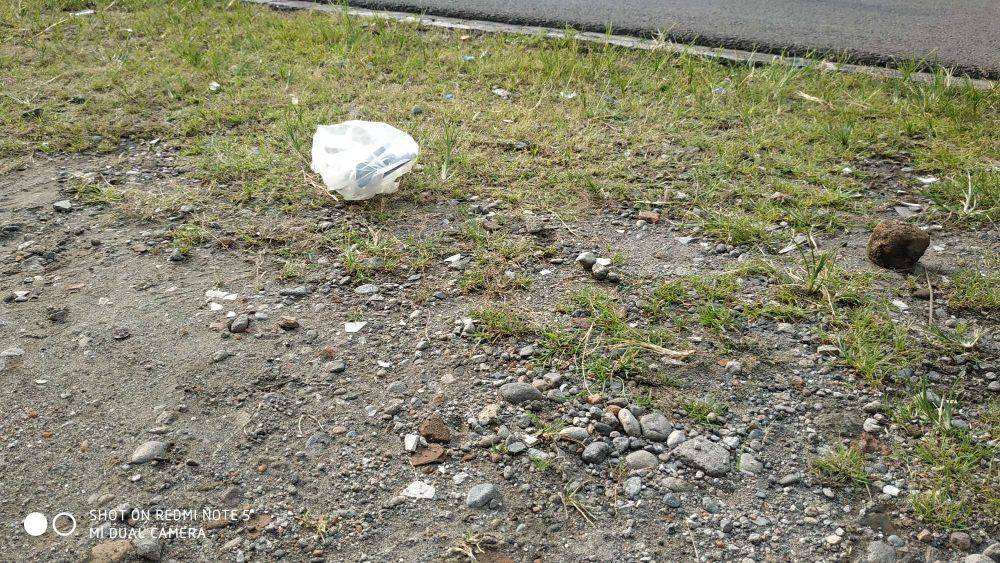plastik: (303, 114, 424, 200)
